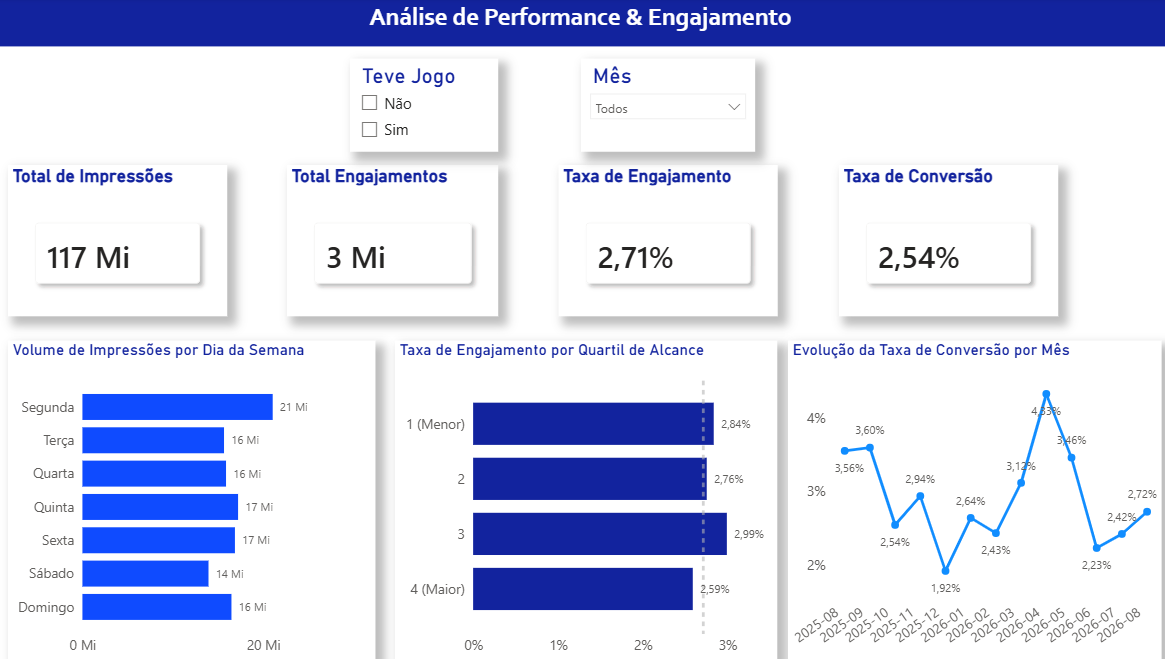

Layout of this report page (visuals, bound fields, positions):
{"tool":"powerbi","page":{"name":"Página 1","canvas":[1280,720],"ordinal":0},"visuals":[{"type":"textbox","box":[0,0,1281.2,53.2],"z":0},{"type":"barChart","title":"Volume de Impressões por Dia da Semana","fields":{"Category":["dataset_cecinforms.Dia Semana"],"Y":["dataset_cecinforms.Total Impressões"]},"box":[22.7,370.8,396.7,349.8],"z":1000},{"type":"clusteredBarChart","title":"Taxa de Engajamento por Quartil de Alcance","fields":{"Category":["dataset_cecinforms.Quartil Alcance"],"Y":["dataset_cecinforms.Taxa Conversao Engajamento %"]},"box":[440.4,370.8,412.9,349.8],"z":2000},{"type":"lineChart","title":"Evolução da Taxa de Conversão por Mês","fields":{"Y":["dataset_cecinforms.Taxa Conversao Engajamento %"],"Category":["dataset_cecinforms.MesAno"]},"box":[864.7,370.8,403.2,349.8],"z":3000},{"type":"cardVisual","title":"Total de Impressões","fields":{"Data":["dataset_cecinforms.Total Impressões"]},"box":[22.7,181.4,236.4,163.5],"z":3001},{"type":"cardVisual","title":"Total Engajamentos","fields":{"Data":["dataset_cecinforms.Total Engajamentos"]},"box":[323.8,181.4,228.3,163.5],"z":3002},{"type":"cardVisual","title":"Taxa de Engajamento","fields":{"Data":["dataset_cecinforms.Taxa Conversao Engajamento %"]},"box":[616.9,181.4,236.4,163.5],"z":3003},{"type":"cardVisual","title":"Taxa de Conversão","fields":{"Data":["dataset_cecinforms.Taxa Conversao Seguidores %"]},"box":[919.7,181.4,236.4,163.5],"z":3004},{"type":"slicer","fields":{"Values":["dataset_cecinforms.Teve Jogo"]},"box":[391.9,66.4,160.3,100.4],"z":3005},{"type":"slicer","fields":{"Values":["dataset_cecinforms.Mês"]},"box":[641.2,66.4,187.8,100.4],"z":3006}]}

Visuals, with their boxes in screenshot pixels (x1, y1, x2, y2), scaled from the page's 1280x720 canvas onto the 1165x659 screenshot:
textbox: rect(0, 0, 1164, 49)
"Volume de Impressões por Dia da Semana" barChart: rect(21, 339, 382, 658)
"Taxa de Engajamento por Quartil de Alcance" clusteredBarChart: rect(401, 339, 777, 658)
"Evolução da Taxa de Conversão por Mês" lineChart: rect(787, 339, 1154, 658)
"Total de Impressões" cardVisual: rect(21, 166, 236, 316)
"Total Engajamentos" cardVisual: rect(295, 166, 502, 316)
"Taxa de Engajamento" cardVisual: rect(561, 166, 777, 316)
"Taxa de Conversão" cardVisual: rect(837, 166, 1052, 316)
slicer - dataset_cecinforms.Teve Jogo: rect(357, 61, 503, 153)
slicer - dataset_cecinforms.Mês: rect(584, 61, 755, 153)
